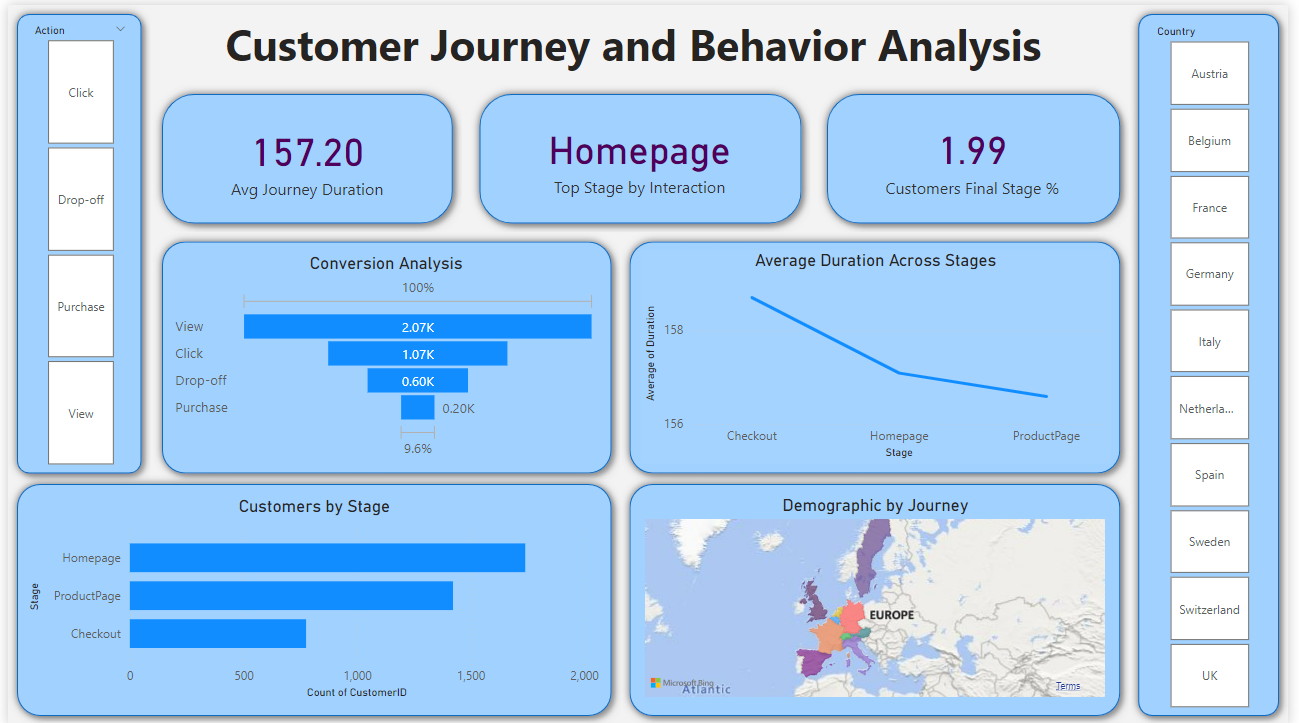

The dashboard page shown, as its layout file describes it:
{"tool":"powerbi","page":{"name":"Customer Journey Analytics","canvas":[1280,720],"ordinal":3},"visuals":[{"type":"textbox","box":[212.5,5,861.2,75],"z":0},{"type":"shape","box":[145,80,308.8,147.5],"z":9001},{"type":"shape","box":[462.5,80,340,147.5],"z":9002},{"type":"shape","box":[810,80,311.2,147.5],"z":9003},{"type":"card","fields":{"Values":["cleaned_customer_journey.Avg Journey Duration"]},"box":[167.5,98.8,263.8,111.2],"z":9004},{"type":"card","fields":{"Values":["cleaned_customer_journey.Top Stage by Interaction"]},"box":[488.8,92.5,286.2,120],"z":9005},{"type":"card","fields":{"Values":["cleaned_customer_journey.Customers Final Stage %"]},"box":[826.2,97.5,276.2,111.2],"z":9006},{"type":"shape","box":[1121.2,0,158.8,720],"z":9007},{"type":"slicer","fields":{"Values":["cleaned_customer_geography.Country"]},"box":[1136.2,15,128.8,693.8],"z":9008},{"type":"shape","box":[0,0,142.5,477.5],"z":9009},{"type":"slicer","fields":{"Values":["cleaned_customer_journey.Action"]},"box":[13.8,13.8,116.2,452.5],"z":9010},{"type":"shape","box":[145,227.5,467.5,250],"z":9011},{"type":"funnel","title":"Conversion Analysis","fields":{"Category":["cleaned_customer_journey.Action"],"Y":["CountNonNull(cleaned_customer_journey.Action)"]},"box":[162.5,247.5,431.2,210],"z":9012},{"type":"shape","box":[612.5,227.5,508.8,250],"z":9013},{"type":"lineChart","title":"Average Duration Across Stages","fields":{"Y":["Avg(cleaned_customer_journey.Duration)"],"Category":["cleaned_customer_journey.Stage"]},"box":[632.5,245,470,213.8],"z":9014},{"type":"shape","box":[0,470,612.5,250],"z":9015},{"type":"clusteredBarChart","title":"Customers by Stage","fields":{"Category":["cleaned_customer_journey.Stage"],"Y":["CountNonNull(cleaned_customer_journey.CustomerID)"]},"box":[16.2,491.2,580,207.5],"z":9016},{"type":"shape","box":[612.5,470,508.8,250],"z":9017},{"type":"filledMap","title":"Demographic by Journey","fields":{"Category":["cleaned_customer_geography.Country"],"Series":["cleaned_customer_journey.JourneyID"]},"box":[632.5,490,470,207.5],"z":9018}]}

Visuals, with their boxes in screenshot pixels (x1, y1, x2, y2), scaled from the page's 1280x720 canvas onto the 1299x723 screenshot:
textbox: <bbox>216, 5, 1090, 80</bbox>
shape: <bbox>147, 80, 461, 228</bbox>
shape: <bbox>469, 80, 814, 228</bbox>
shape: <bbox>822, 80, 1138, 228</bbox>
card - cleaned_customer_journey.Avg Journey Duration: <bbox>170, 99, 438, 211</bbox>
card - cleaned_customer_journey.Top Stage by Interaction: <bbox>496, 93, 787, 213</bbox>
card - cleaned_customer_journey.Customers Final Stage %: <bbox>838, 98, 1119, 210</bbox>
shape: <bbox>1138, 0, 1298, 722</bbox>
slicer - cleaned_customer_geography.Country: <bbox>1153, 15, 1284, 712</bbox>
shape: <bbox>0, 0, 145, 479</bbox>
slicer - cleaned_customer_journey.Action: <bbox>14, 14, 132, 468</bbox>
shape: <bbox>147, 228, 622, 479</bbox>
"Conversion Analysis" funnel: <bbox>165, 249, 603, 459</bbox>
shape: <bbox>622, 228, 1138, 479</bbox>
"Average Duration Across Stages" lineChart: <bbox>642, 246, 1119, 461</bbox>
shape: <bbox>0, 472, 622, 722</bbox>
"Customers by Stage" clusteredBarChart: <bbox>16, 493, 605, 702</bbox>
shape: <bbox>622, 472, 1138, 722</bbox>
"Demographic by Journey" filledMap: <bbox>642, 492, 1119, 700</bbox>
